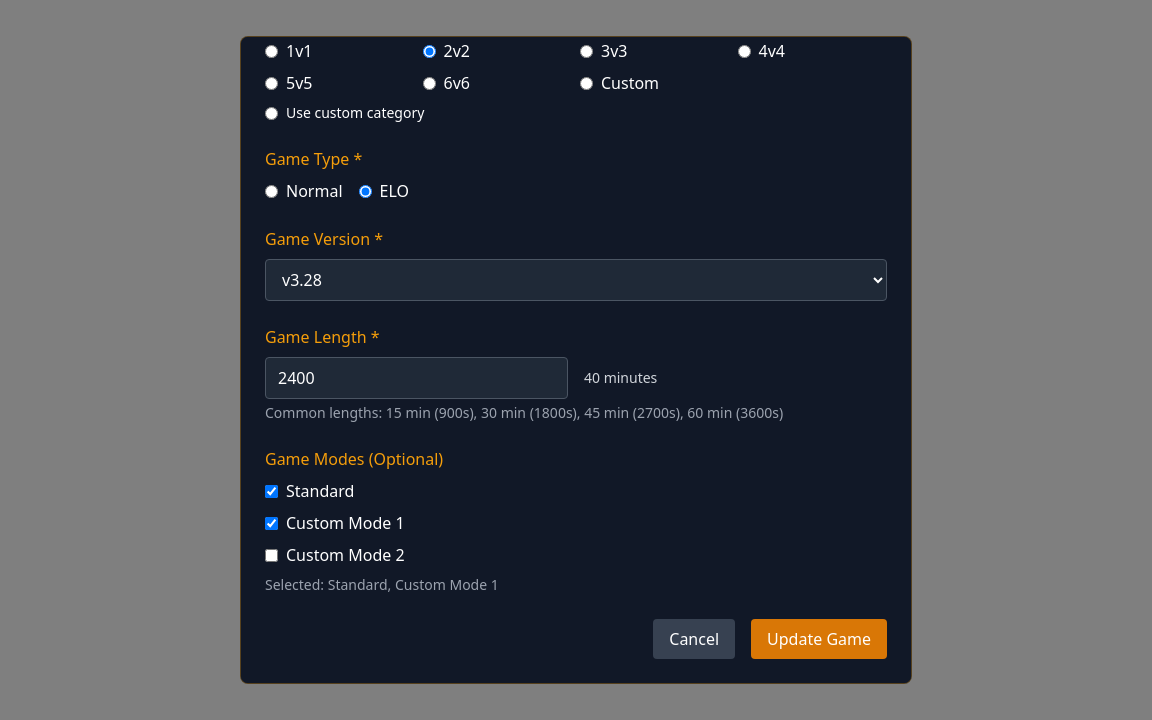
Test: EditGameForm › displays error message on submission failure
The image size is (1152, 720).
(page scrolled)
What coordinates should you click on to do the following:
click the button "Update Game"
I would click on:
 (819, 639)
Its box is [751,619,887,659].
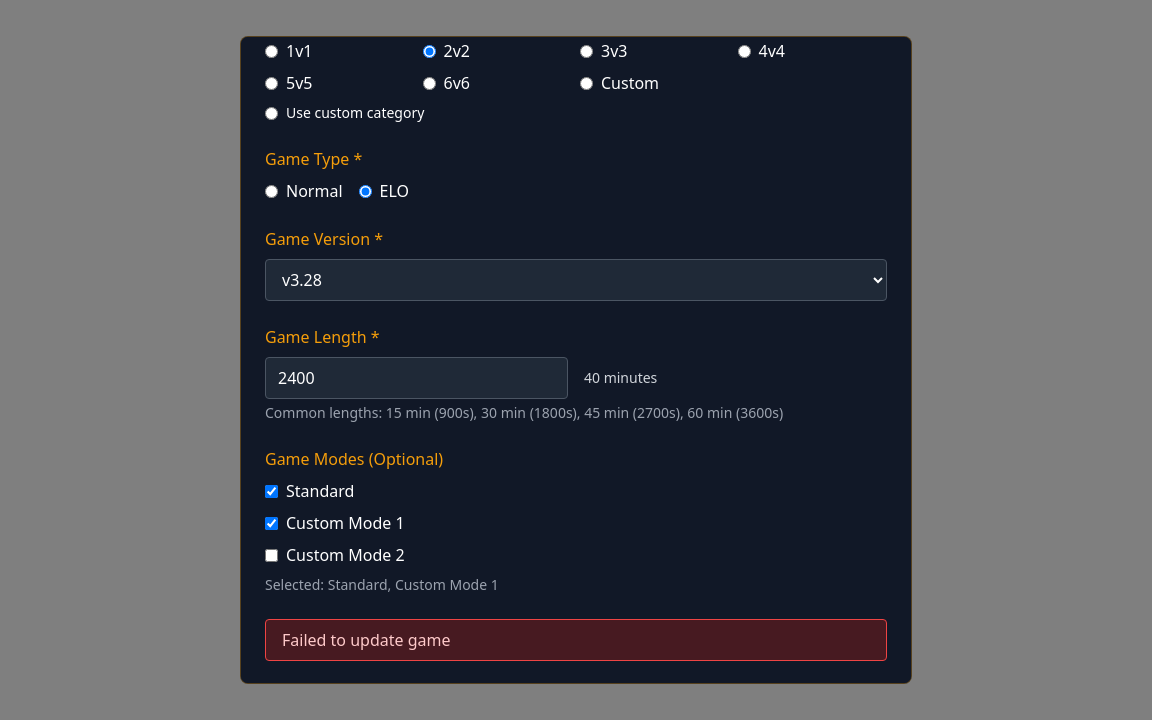
Expected: the text "Failed to update game" is shown, [265,619,887,661]
